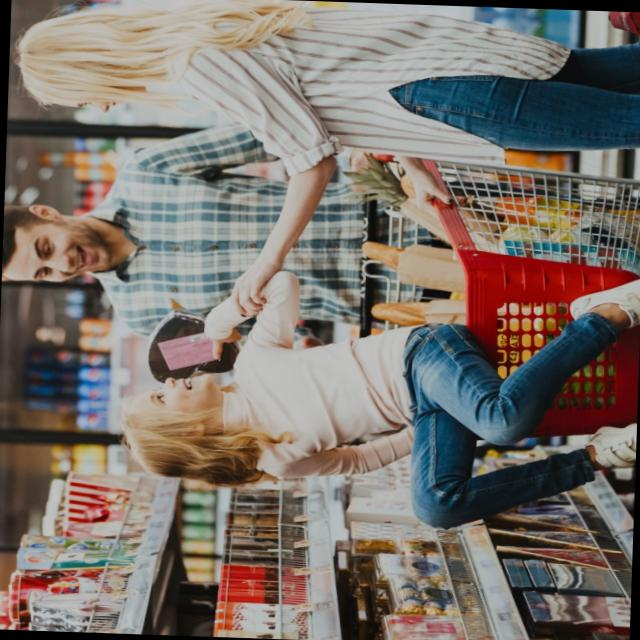mate bag: (604, 9, 640, 34)
